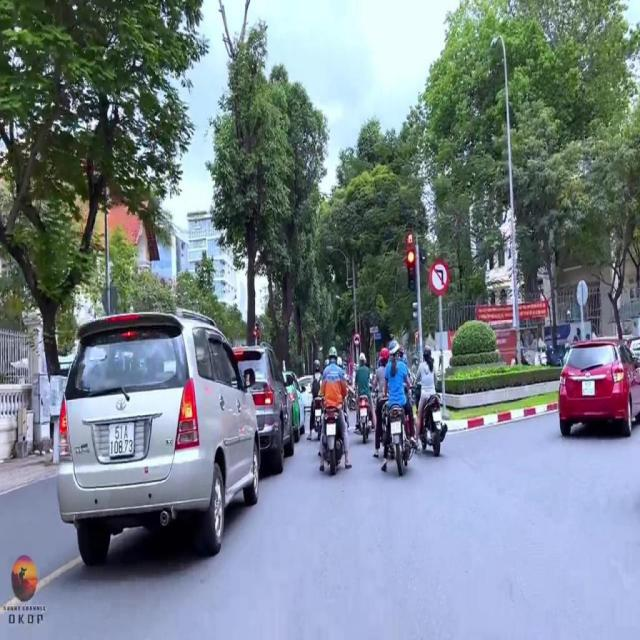cam_o_to_tai: (354, 332, 362, 346)
cam_re_trai: (430, 259, 449, 296)
